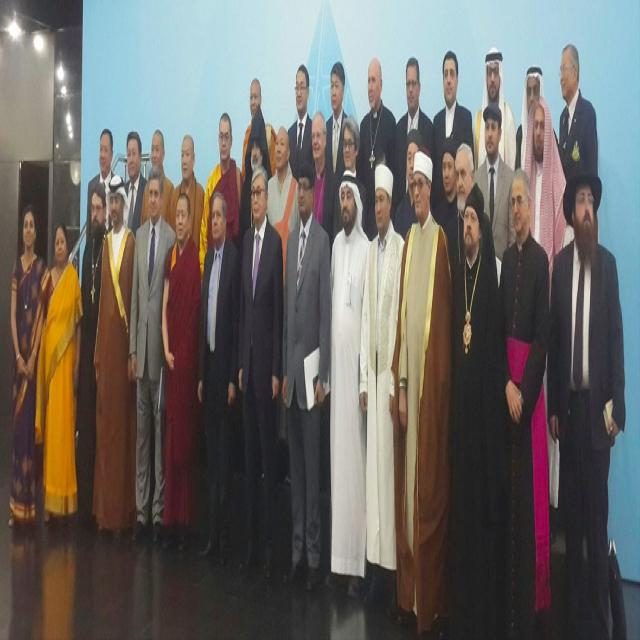body: (546, 155, 628, 639), (394, 148, 452, 637), (498, 166, 550, 637), (450, 182, 503, 621), (282, 158, 330, 592), (235, 162, 285, 578), (359, 161, 406, 572), (127, 167, 177, 546), (523, 94, 568, 511), (329, 168, 372, 584), (195, 188, 241, 558), (93, 172, 136, 532), (161, 192, 203, 554), (34, 219, 84, 517), (10, 205, 50, 530), (76, 183, 109, 518), (198, 110, 245, 298), (448, 142, 499, 293), (432, 48, 475, 220), (471, 100, 516, 263), (357, 56, 396, 242), (394, 56, 436, 215), (265, 123, 300, 296), (472, 44, 517, 175), (558, 42, 599, 183), (310, 109, 341, 271), (514, 64, 559, 171), (432, 135, 465, 271), (169, 133, 206, 254), (332, 116, 367, 238), (241, 77, 278, 191), (141, 128, 176, 234), (85, 128, 116, 245), (286, 62, 315, 184), (242, 120, 271, 231), (325, 61, 349, 194), (394, 125, 420, 241), (122, 131, 148, 241)
